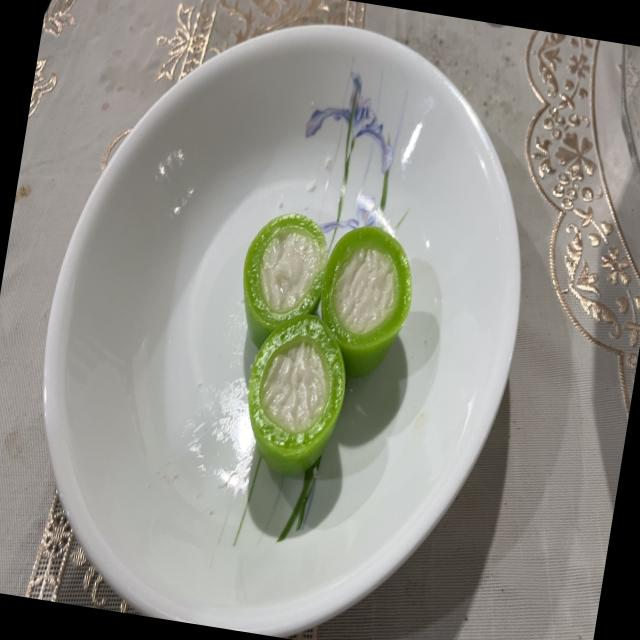nona-manis: (248, 314, 346, 478), (321, 226, 412, 378), (243, 214, 328, 348)
